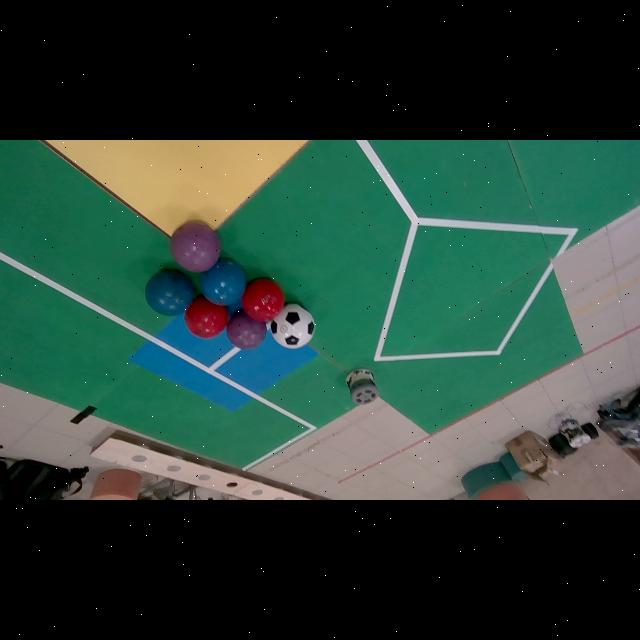B: (145, 270, 194, 316), (201, 259, 247, 306)
P: (170, 223, 221, 272), (227, 310, 268, 350)
R: (184, 295, 228, 338), (243, 278, 285, 321)
